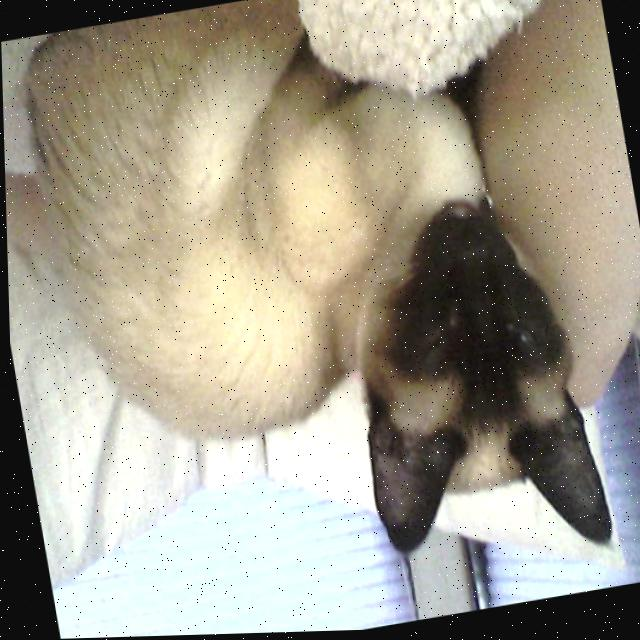Siamese: (8, 0, 618, 639)
